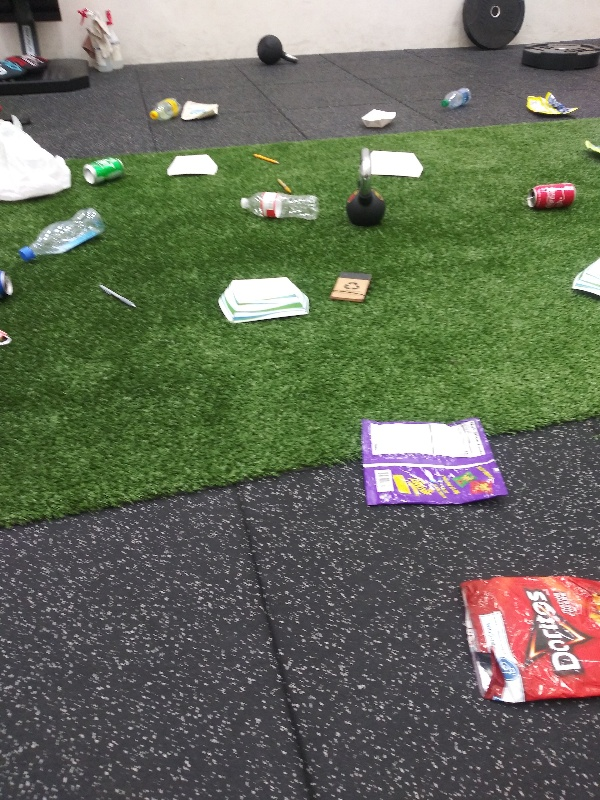bag: (454, 573, 600, 707), (357, 413, 512, 505), (523, 90, 583, 117), (180, 99, 224, 122), (584, 135, 600, 155)
bottle: (18, 203, 106, 266), (232, 192, 323, 227), (148, 97, 184, 125), (437, 83, 475, 109)
can: (523, 180, 578, 211), (81, 153, 128, 188), (1, 269, 14, 304)
plate: (213, 275, 312, 327), (567, 252, 600, 307), (372, 148, 425, 181), (164, 152, 224, 178), (355, 106, 402, 129)
